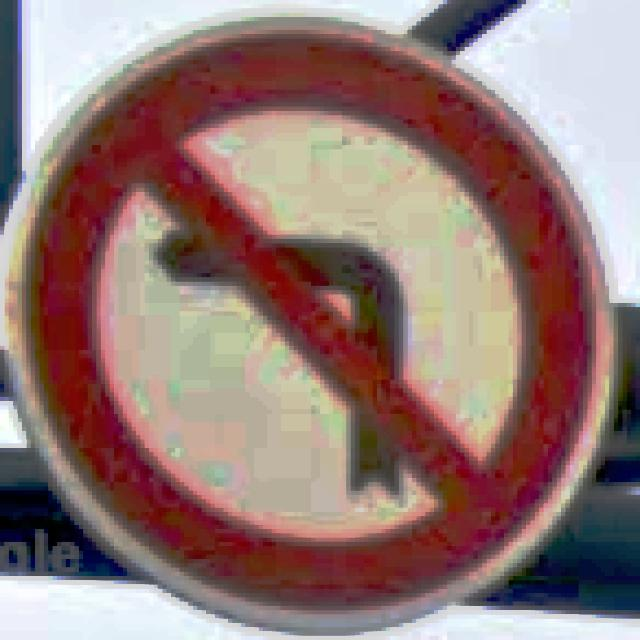noturnleft: (0, 4, 618, 632)
